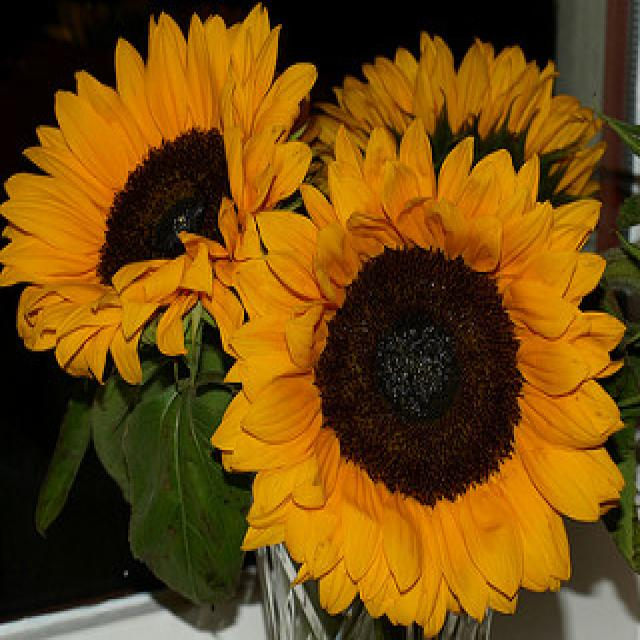sunflower: (204, 108, 640, 640), (0, 0, 326, 387)
